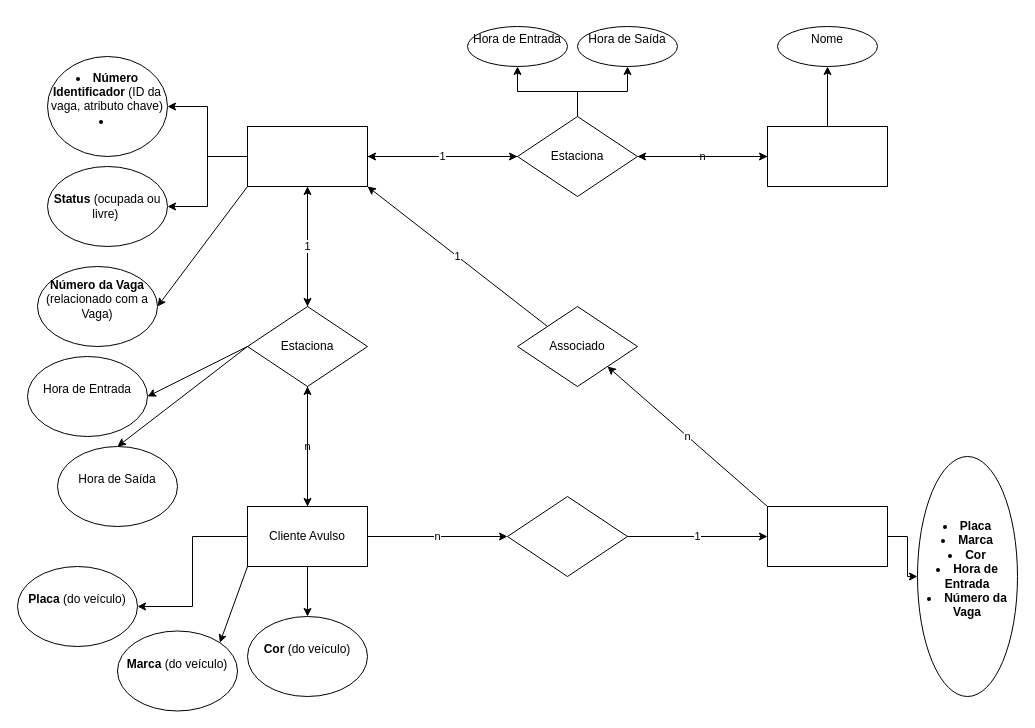
The diagram is 1035 pixels wide and 728 high, and some of its shapes have lost their labels. The box of each missing label's shape, as (x1, y1, x2, y2) in pixels:
Cliente Mensalista: (766, 126, 888, 186)
Comprovante: (766, 506, 888, 566)
Recebe: (506, 496, 628, 576)
Vaga: (246, 126, 368, 186)
